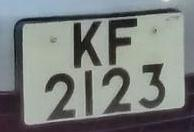1: (78, 65, 100, 120)
2: (35, 68, 84, 122), (98, 62, 136, 117)
3: (133, 60, 171, 112)
F: (103, 15, 149, 69)
K: (63, 16, 110, 73)
